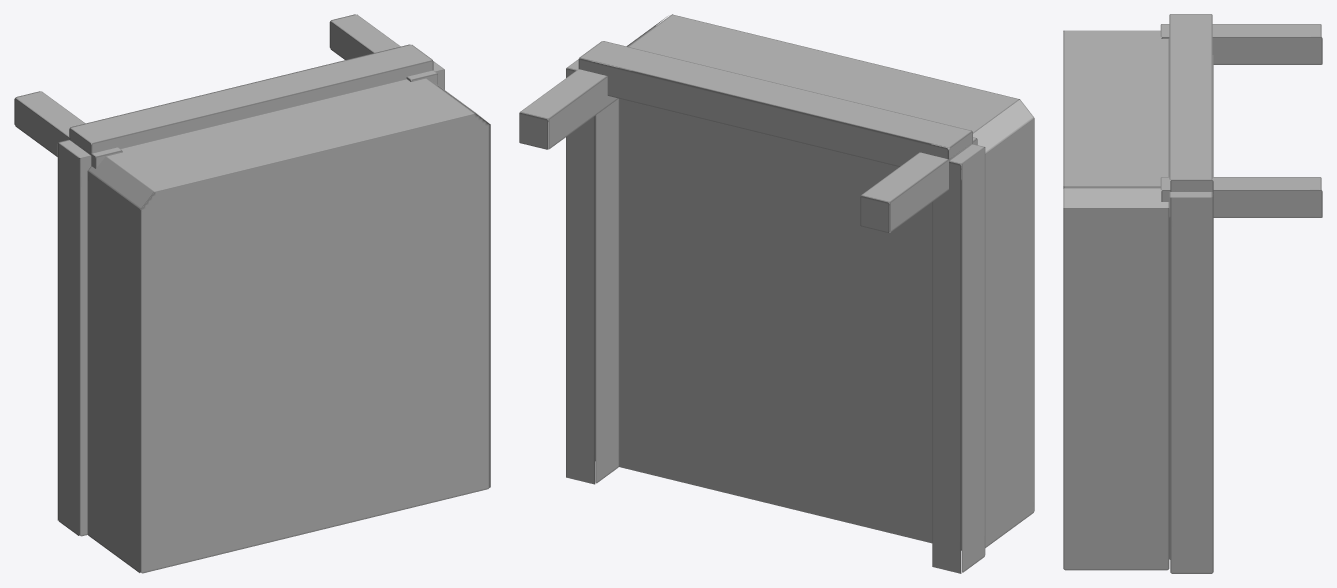
The model's file is pz_bed_bedding_01_simple_0_1.obj.
3 views of the same model, side by side, from view 1: azimuth 30°, elevation 25°; view 2: azimuth 150°, elevation 25°; view 3: azimuth 270°, elevation 25° (orthographic). The views are drawn at different scales.
Bounding box in the file's own units: 0.95 × 0.97 × 0.5869.
1 material, 1 textured.
